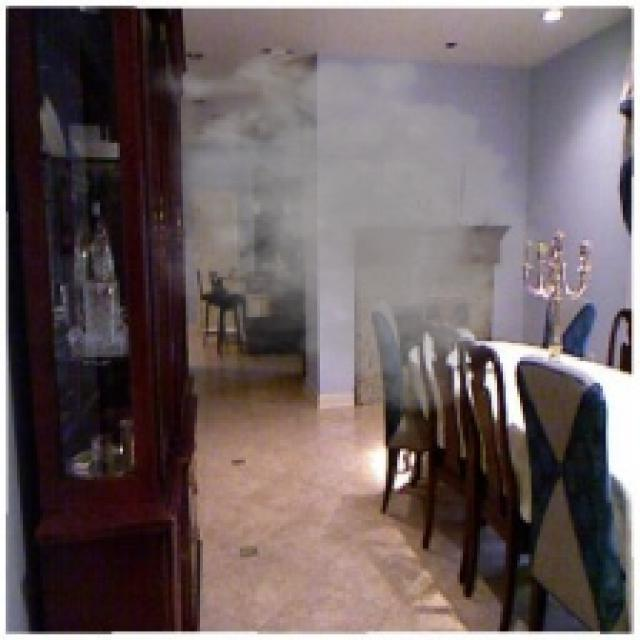Smoke: (135, 31, 560, 426)
